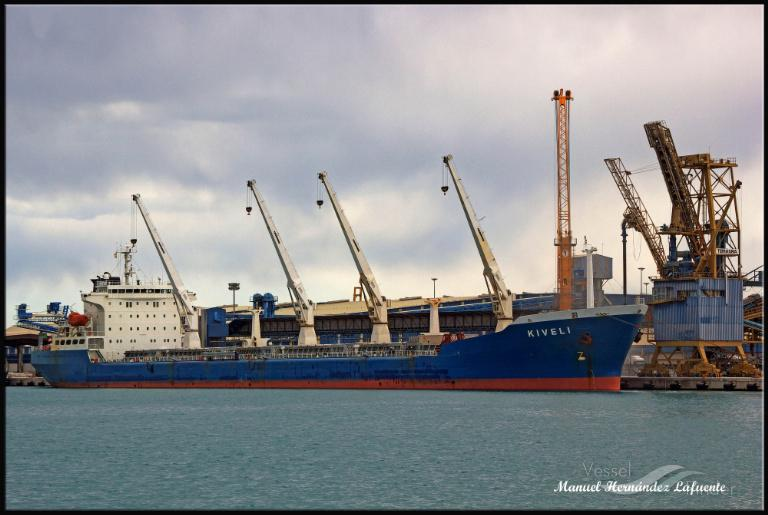OCR: (524, 322, 574, 344)
